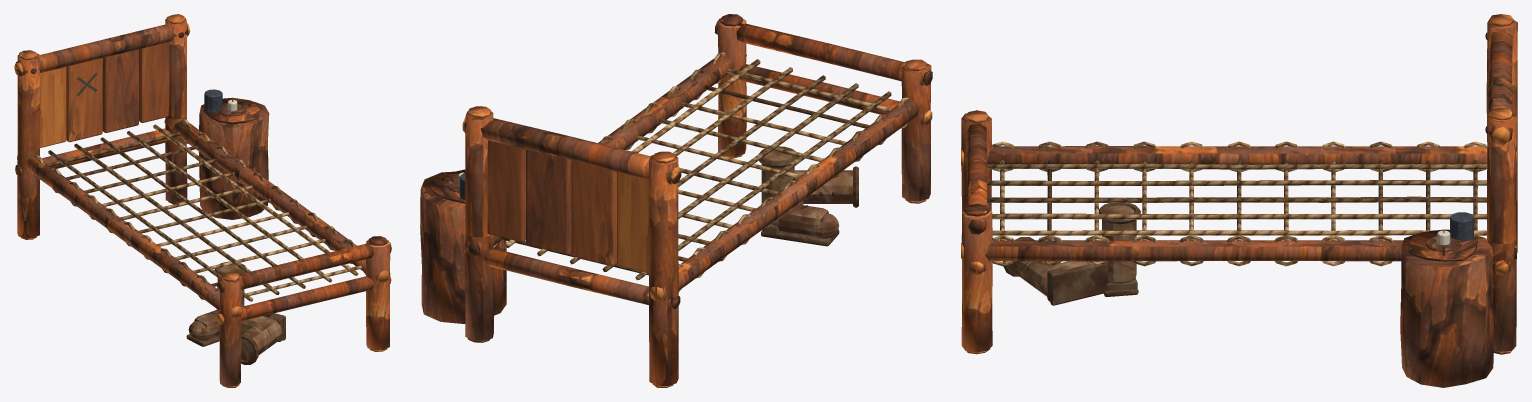
File: op_cot.glb
3 views of the same model, side by side, from view 1: azimuth 30°, elevation 25°; view 2: azimuth 150°, elevation 25°; view 3: azimuth 270°, elevation 25° (orthographic). The views are drawn at different scales.
Visible parts, largest first — view 1: model; view 2: model; view 3: model.
Boxes of the visible parts, x1=… form: model: x1=14, y1=14, x2=391, y2=387; model: x1=420, y1=14, x2=932, y2=387; model: x1=961, y1=14, x2=1517, y2=387.
Size of the model in its own units: 1.11 by 0.865 by 1.84.
Materials: 21 (18 with a texture image).
